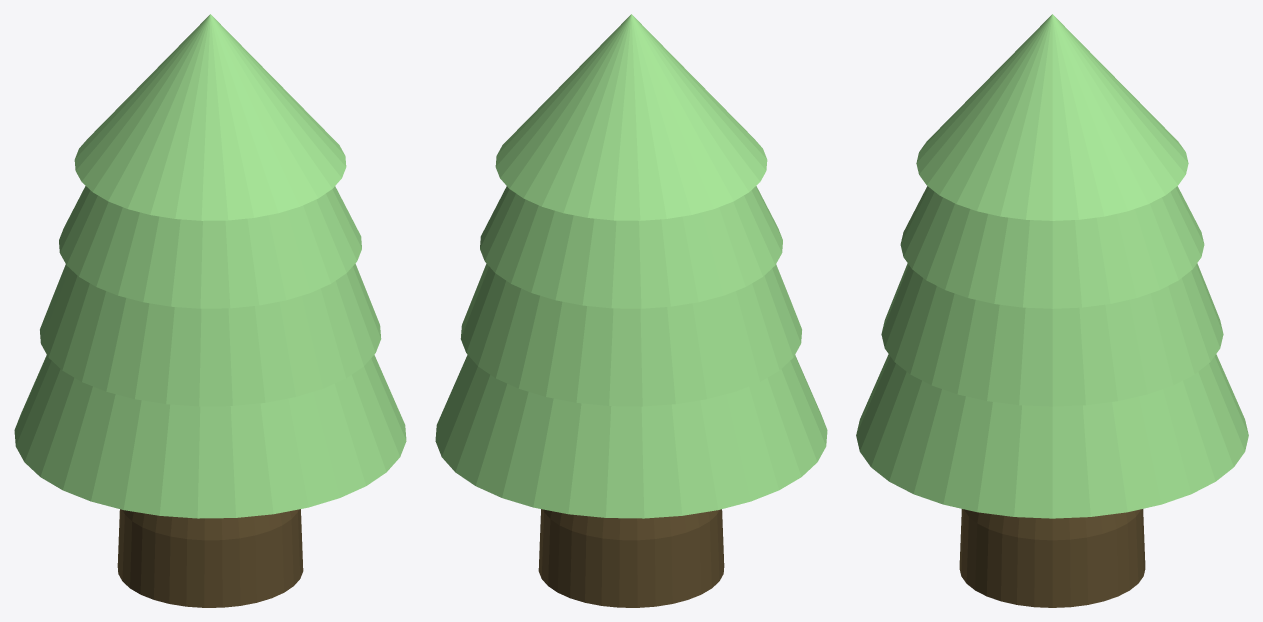
File: Tree.fbx
3 views of the same model, side by side, from view 1: azimuth 30°, elevation 25°; view 2: azimuth 150°, elevation 25°; view 3: azimuth 270°, elevation 25° (orthographic).
Parts seen in each view (by area): view 1: Cube; view 2: Cube; view 3: Cube.
Boxes of the visible parts, x1,y1,x2,y2 form: Cube: (14,14,406,607); Cube: (435,14,827,607); Cube: (856,14,1248,607).
Size of the model in its own units: 551 by 859 by 551.
